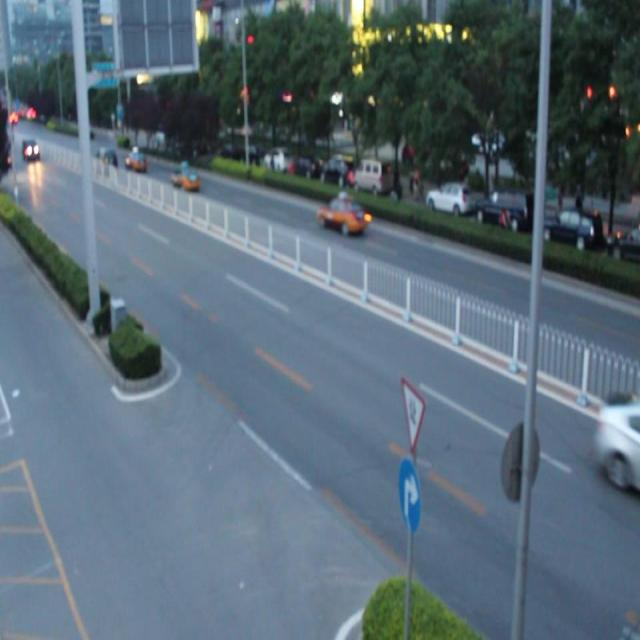car: (320, 196, 364, 231), (169, 167, 199, 187), (125, 153, 146, 169)
